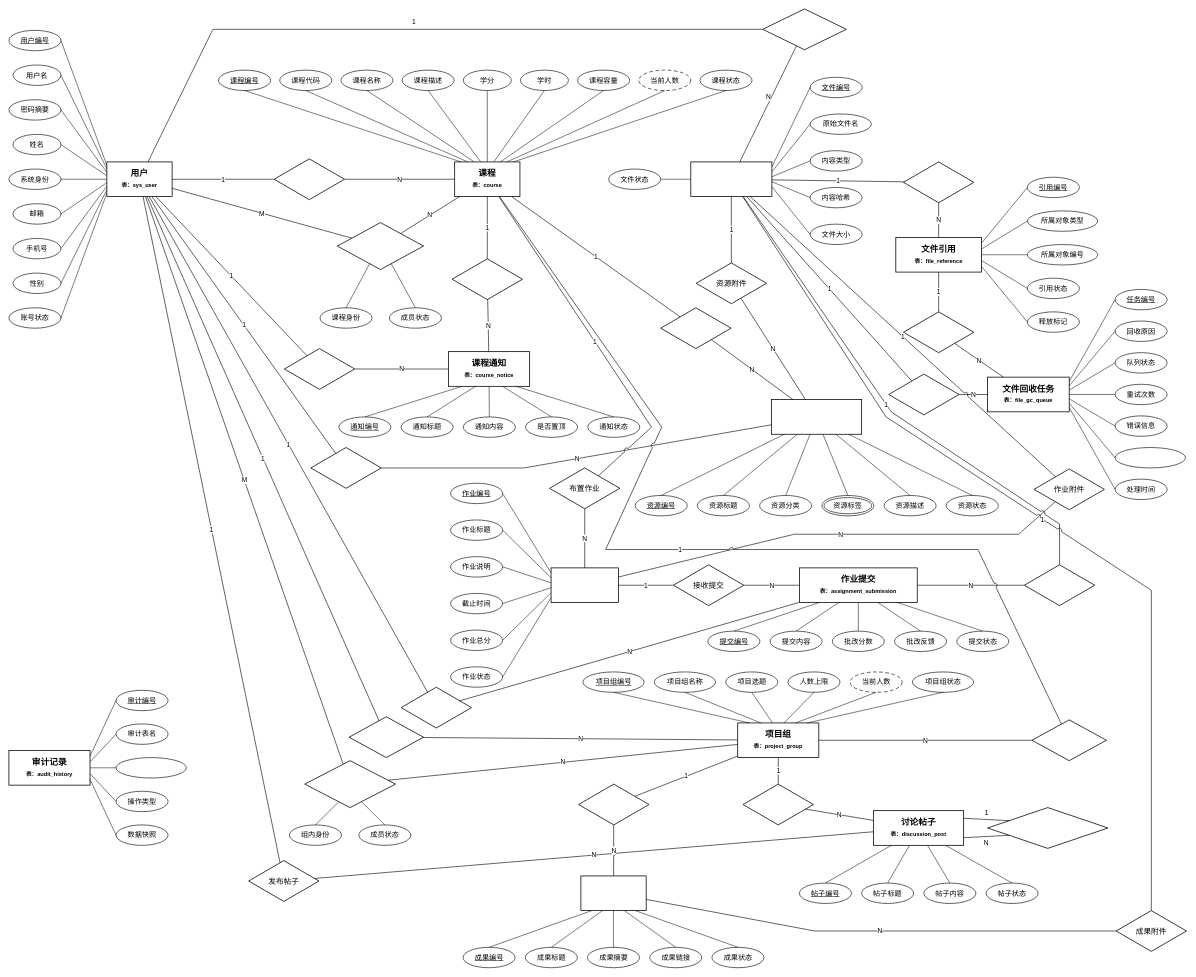
This 1196x977 diagram has some shape labels left out. Here are the shapes that lost their labels. From the top down, the box of each, then its label:
(762, 8, 846, 50): 首次上传文件
(274, 158, 345, 200): 任教
(690, 161, 772, 197): 文件 表：file_metadata
(903, 161, 974, 203): 引用文件
(337, 222, 424, 270): 参与课程 表：course_member
(452, 258, 523, 300): 包含通知
(660, 307, 731, 349): 提供资源
(903, 311, 974, 353): 释放入队
(284, 348, 355, 390): 发布通知
(888, 373, 959, 415): 回收目标
(771, 399, 862, 434): 课程资源 表：course_resource
(310, 447, 381, 488): 上传资源
(1115, 447, 1186, 468): 下次重试时间
(550, 567, 619, 603): 作业 表：assignment
(1024, 564, 1095, 606): 提交附件
(401, 687, 472, 728): 完成提交
(348, 716, 424, 758): 领导项目组
(1031, 719, 1107, 761): 组织项目组
(115, 757, 186, 778): 审计记录编号
(304, 760, 396, 808): 加入项目组 表：project_member
(578, 784, 649, 825): 产出成果
(742, 784, 814, 825): 包含帖子
(987, 807, 1108, 849): 回复（父帖—回复帖）
(580, 875, 646, 911): 成果展示 表：showcase
